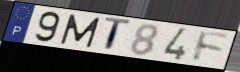4: (162, 27, 189, 62)
8: (129, 23, 161, 58)
9: (34, 11, 62, 43)
F: (191, 30, 231, 64)
M: (58, 13, 103, 49)
T: (103, 16, 133, 54)
